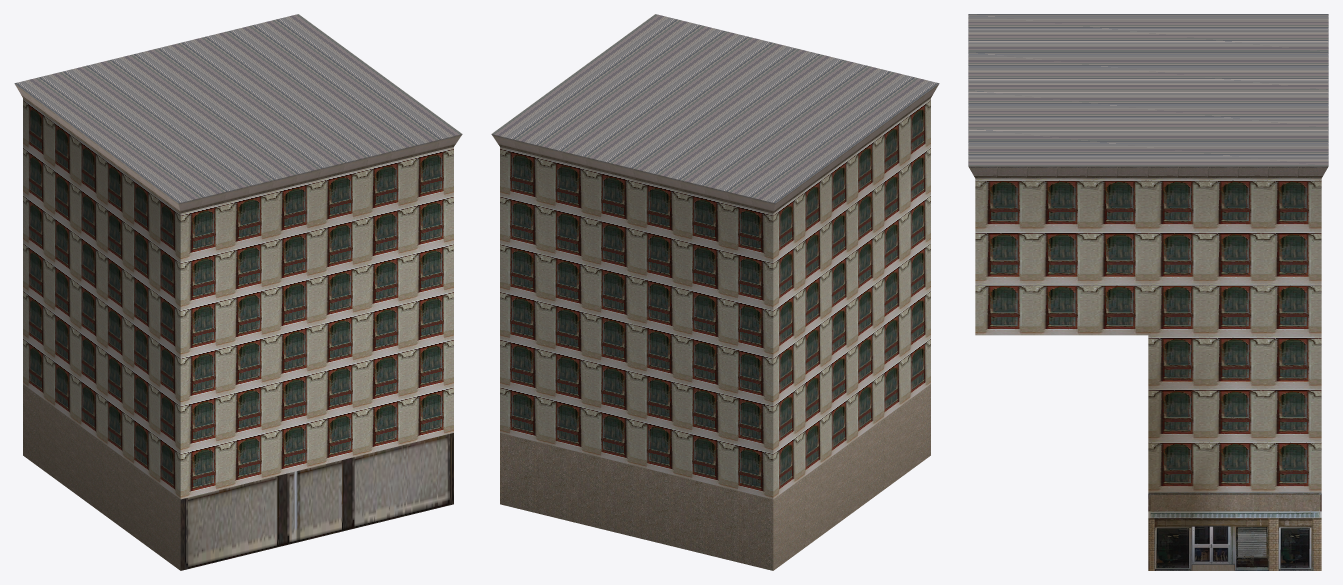
File: M2Zone4_Building17.glb
The picture shows the model from 3 angles, left to right: view 1: azimuth 30°, elevation 25°; view 2: azimuth 150°, elevation 25°; view 3: azimuth 270°, elevation 25°; orthographic projection. The views are drawn at different scales.
Visible parts, largest first — view 1: M2ZONE4_BUILDING17; view 2: M2ZONE4_BUILDING17; view 3: M2ZONE4_BUILDING17.
Boxes of the visible parts, x1=… form: M2ZONE4_BUILDING17: x1=14, y1=14, x2=462, y2=570; M2ZONE4_BUILDING17: x1=491, y1=14, x2=939, y2=570; M2ZONE4_BUILDING17: x1=968, y1=14, x2=1328, y2=570.
Size of the model in its own units: 16.64 by 20.76 by 16.64.
6 materials, 6 textured.
